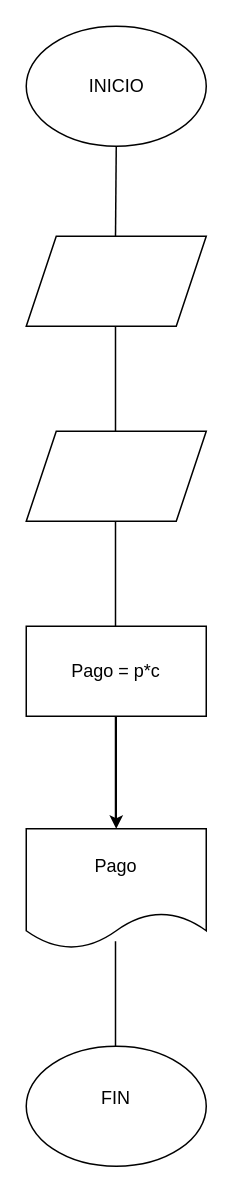
This 233x1193 diagram has some shape labels left out. Each missing label, with the centre of its shape:
"Cantidad" belongs at (115,475).
"Precio" belongs at (115,280).
